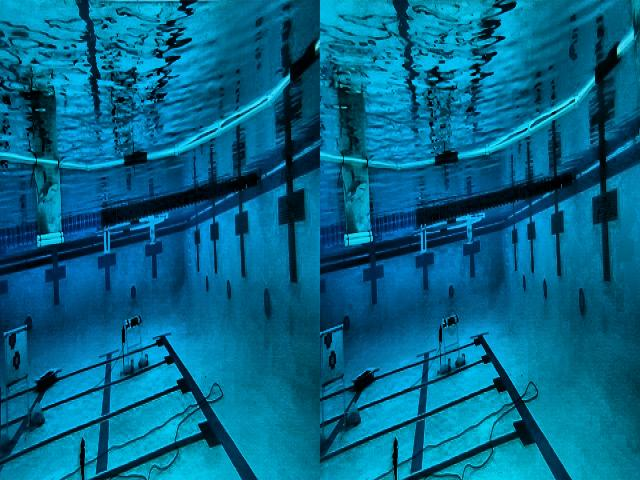octagon_table: (437, 312, 466, 377), (120, 315, 148, 380)
octagon_top: (320, 30, 640, 249), (0, 33, 319, 249), (412, 211, 486, 254), (94, 213, 169, 255)
sawfish: (466, 221, 474, 246), (149, 223, 156, 246)
shark: (340, 163, 373, 246), (33, 163, 64, 244)
